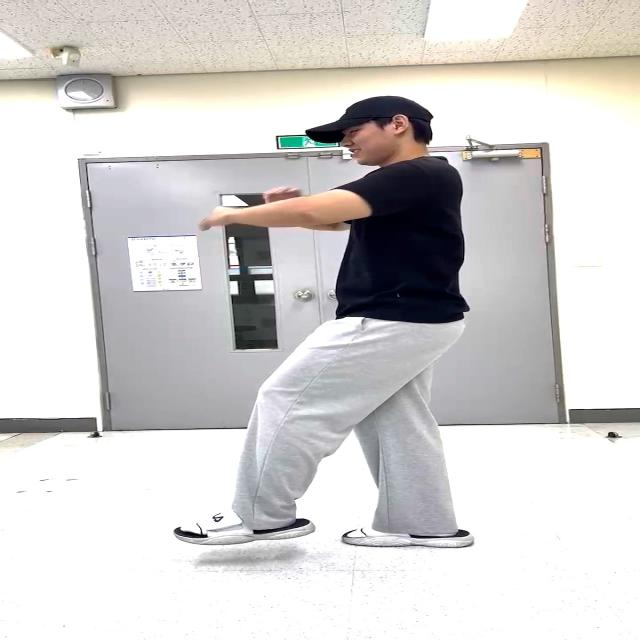leg: (169, 329, 378, 558)
